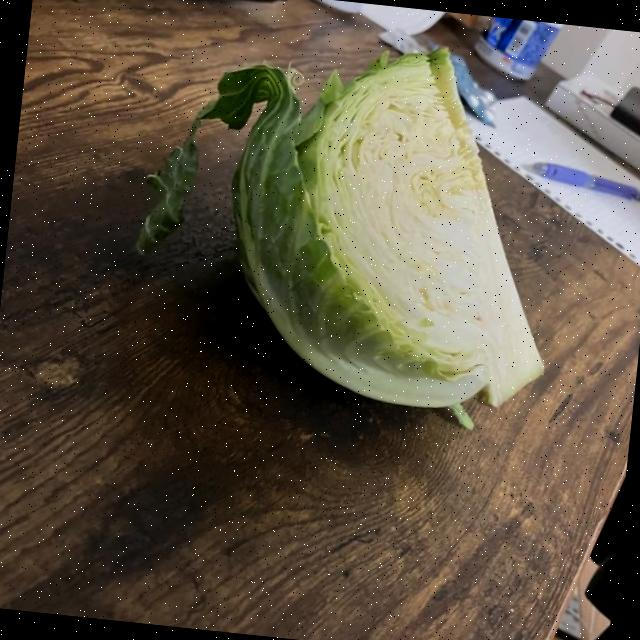cabbage: (112, 10, 582, 440)
